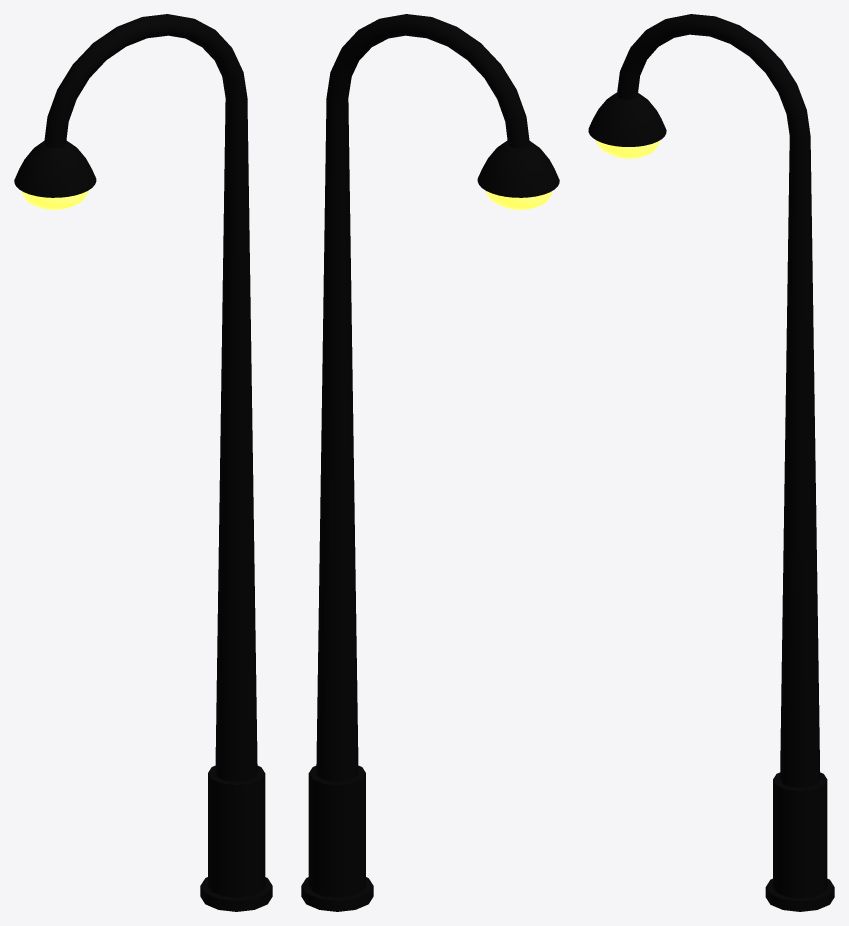
The model's file is lamp_5.glb.
3 renders of one model, left to right at view 1: azimuth 30°, elevation 25°; view 2: azimuth 150°, elevation 25°; view 3: azimuth 330°, elevation 25°, orthographic. The views are drawn at different scales.
Parts seen in each view (by area): view 1: lamp_5; view 2: lamp_5; view 3: lamp_5.
Boxes of the visible parts, x1,y1,x2,y2 form: lamp_5: (14,14,272,911); lamp_5: (301,14,559,911); lamp_5: (588,14,834,911).
Size of the model in its own units: 0.9642 by 3.35 by 0.2687.
